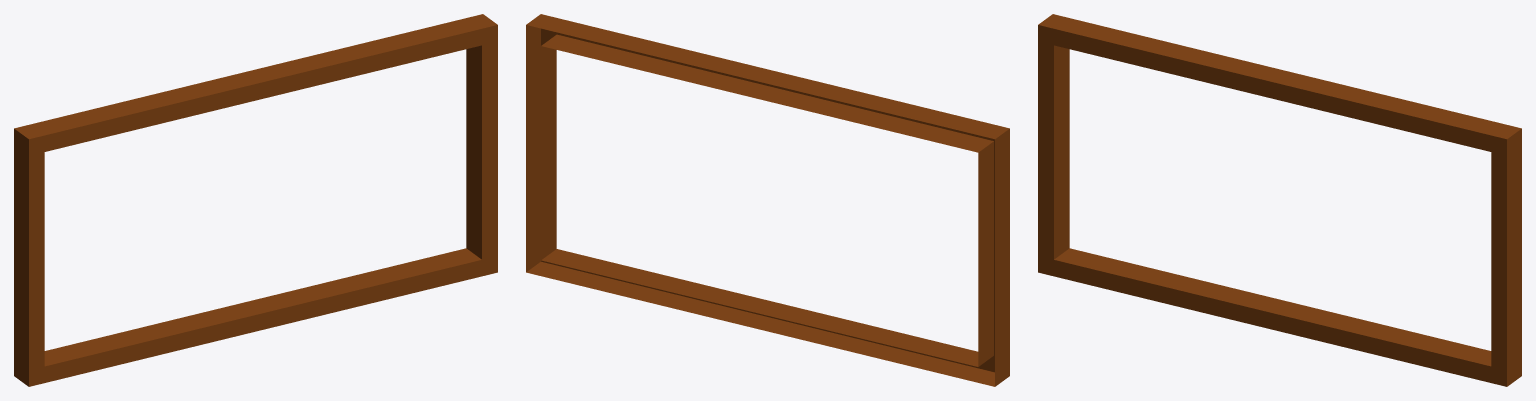
The model's file is window_frame_001.FBX.
The picture shows the model from 3 angles, left to right: view 1: azimuth 30°, elevation 25°; view 2: azimuth 150°, elevation 25°; view 3: azimuth 330°, elevation 25°; orthographic projection.
Visible parts, largest first — view 1: window_frame; view 2: window_frame; view 3: window_frame.
Boxes of the visible parts, x1=… form: window_frame: x1=14, y1=14, x2=497, y2=386; window_frame: x1=526, y1=14, x2=1009, y2=386; window_frame: x1=1038, y1=14, x2=1521, y2=386.
Bounding box in the file's own units: 1.03 × 0.521 × 0.06.
